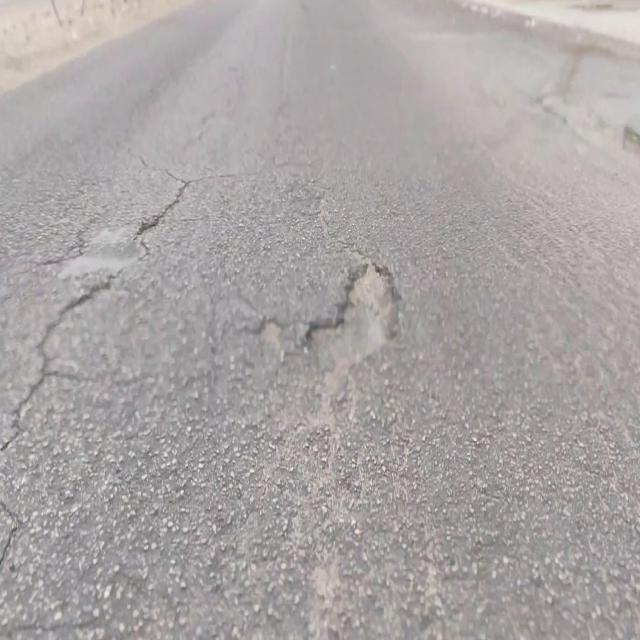Potholes: (303, 257, 400, 373)
